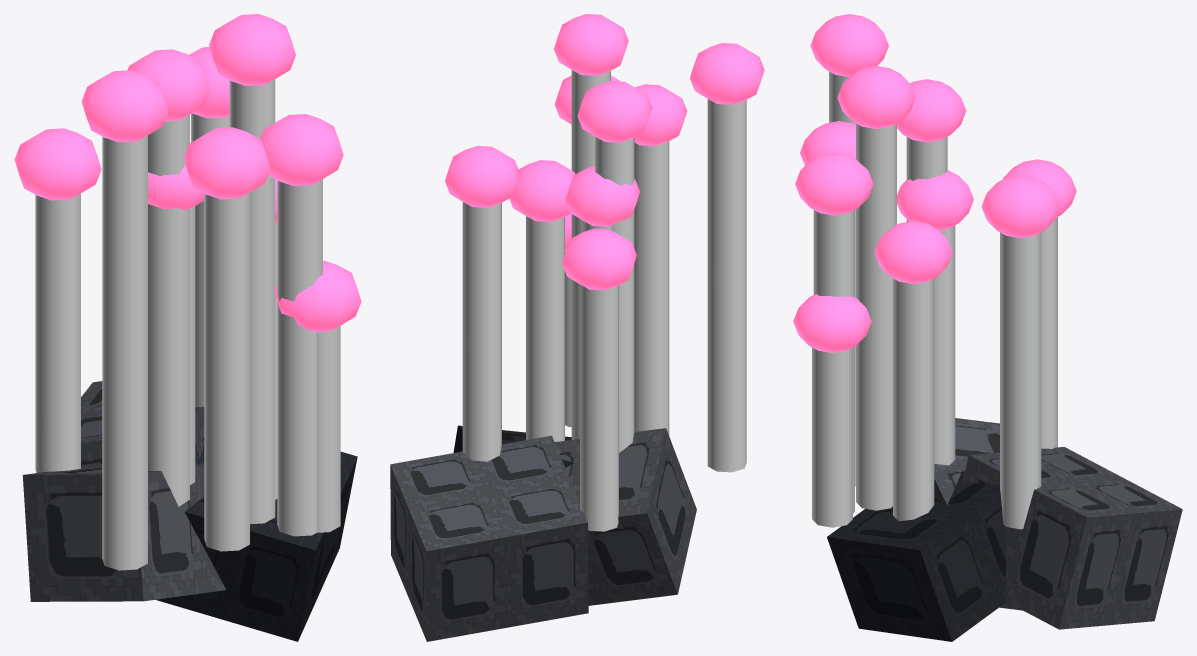
The model's file is TubeWorms.fbx.
3 renders of one model, left to right at view 1: azimuth 30°, elevation 25°; view 2: azimuth 150°, elevation 25°; view 3: azimuth 270°, elevation 25°, orthographic. The views are drawn at different scales.
Visible parts, largest first — view 1: TubeWorms, TubeWorms_Glow; view 2: TubeWorms, TubeWorms_Glow; view 3: TubeWorms, TubeWorms_Glow.
Part boxes in pixels (<box>): TubeWorms: <box>22,79,357,641</box>; TubeWorms_Glow: <box>14,14,361,332</box>; TubeWorms: <box>390,70,746,641</box>; TubeWorms_Glow: <box>445,14,764,290</box>; TubeWorms: <box>812,71,1182,641</box>; TubeWorms_Glow: <box>793,14,1076,352</box>.
Size of the model in its own units: 336 by 643 by 416.
Materials: 2 (1 with a texture image).
